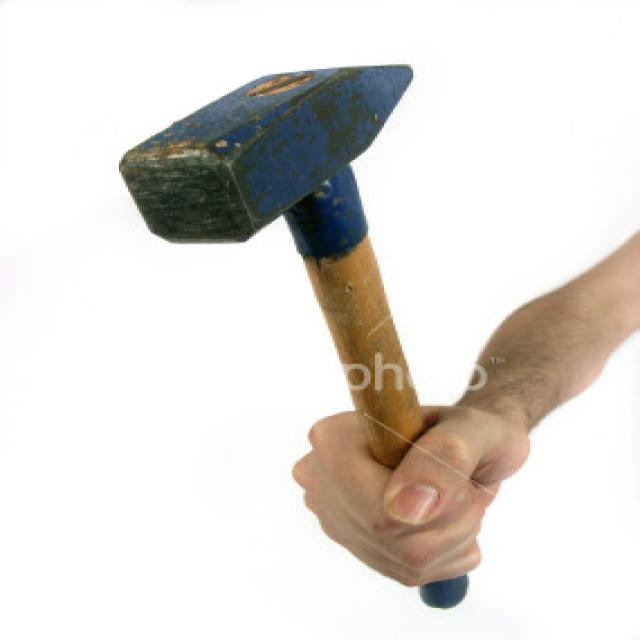hammer: (95, 12, 455, 438)
